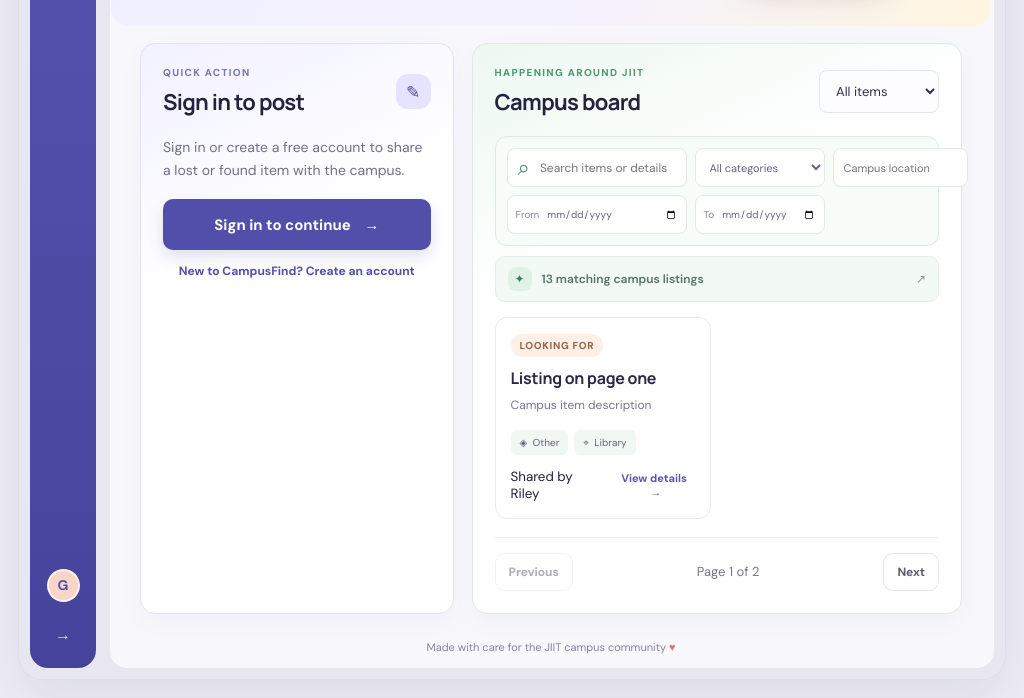
Test: CampusFind board › paginates campus listings and returns to the first page when filters change
(page scrolled)
expect the heading "Listing on page one" is shown: met, box [510, 367, 656, 389]
Click the button with aria-label "Next listings": (911, 572) [883, 553, 939, 591]
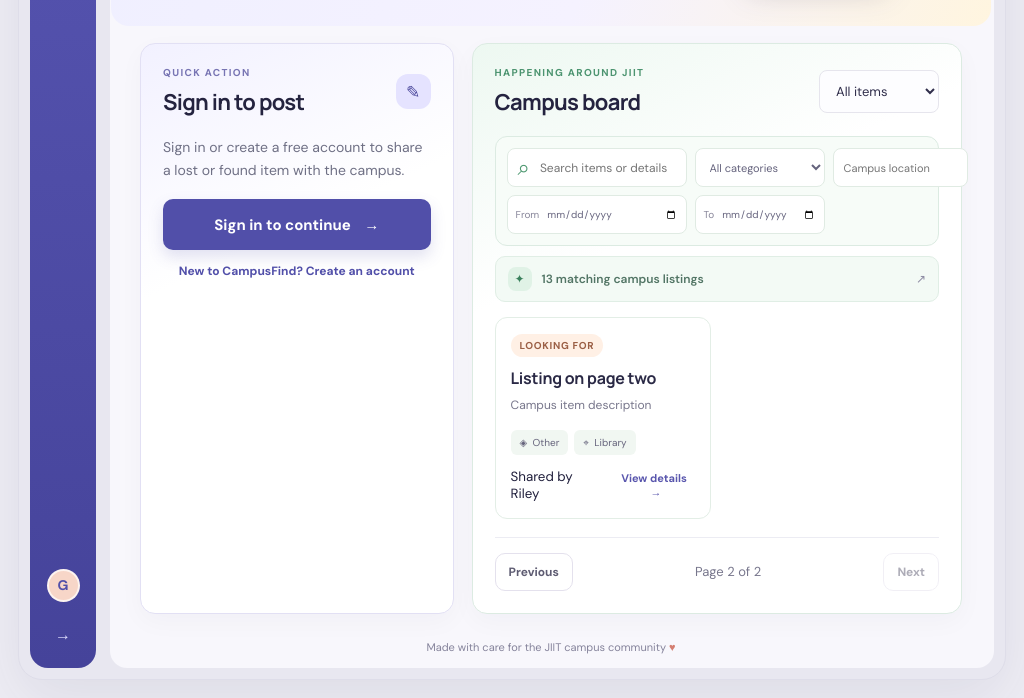
expect the heading "Listing on page two" is shown: met, box [510, 367, 656, 389]
Select "Electronics" in the dropdown named "Filter by category": (760, 168) [694, 148, 824, 187]
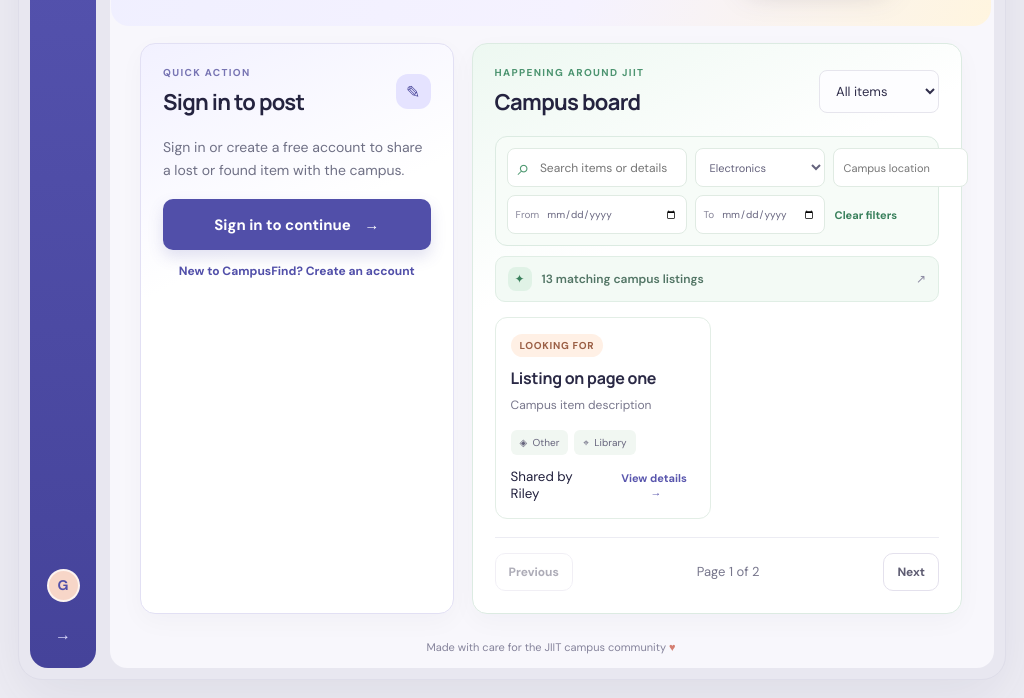
expect the heading "Listing on page one" is shown: met, box [510, 367, 656, 389]
